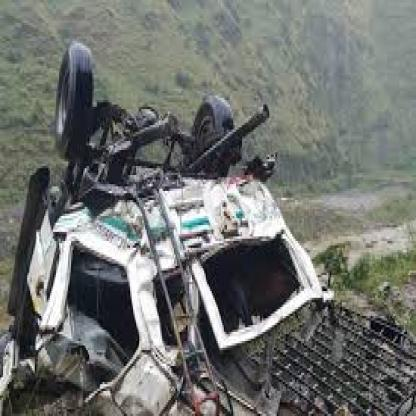accident: (3, 42, 413, 408)
